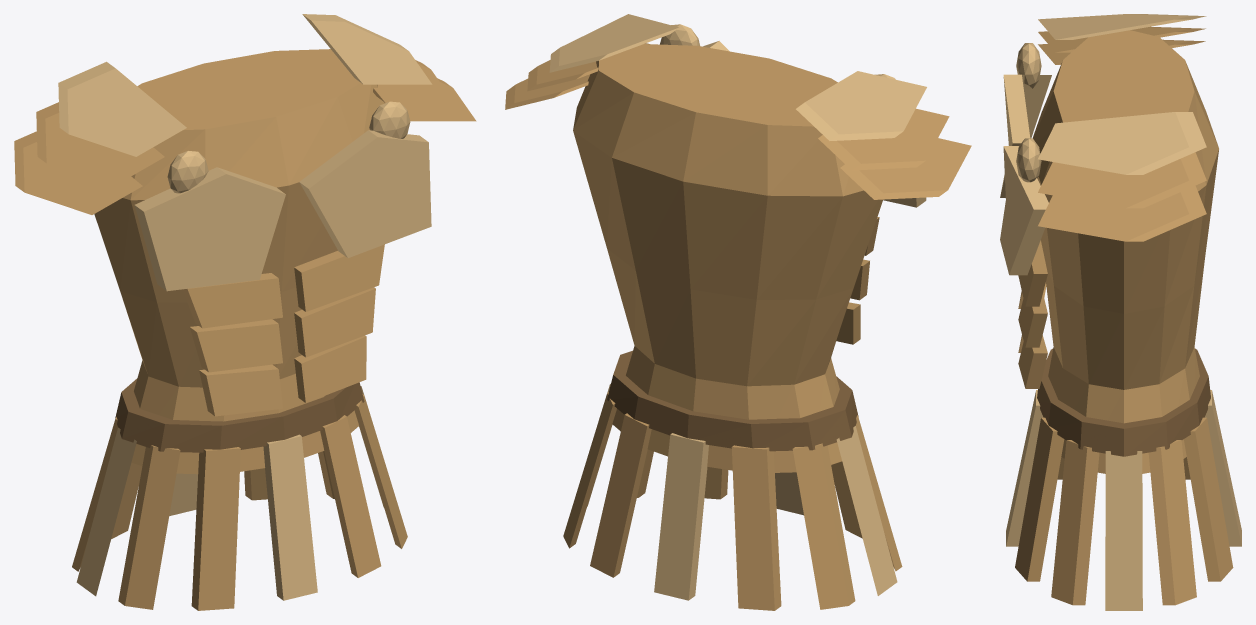
Rendered from cuirass.glb.
3 views of the same model, side by side, from view 1: azimuth 30°, elevation 25°; view 2: azimuth 150°, elevation 25°; view 3: azimuth 270°, elevation 25° (orthographic). The views are drawn at different scales.
Parts seen in each view (by area): view 1: Faceted cuirass, Pectoral plate, Pectoral plate.001, Waist belt, Layered shoulder, Overlapping skirt lappet.011, Overlapping skirt lappet, Overlapping skirt lappet.010, Overlapping skirt lappet.001, Layered shoulder.003, Layered shoulder.001, Layered shoulder.002 (+16 smaller); view 2: Faceted cuirass, Waist belt, Overlapping skirt lappet.007, Overlapping skirt lappet.006, Layered shoulder, Overlapping skirt lappet.008, Overlapping skirt lappet.005, Layered shoulder.002, Layered shoulder.001, Overlapping skirt lappet.009, Layered shoulder.003, Overlapping skirt lappet.004 (+7 smaller); view 3: Faceted cuirass, Layered shoulder.003, Waist belt, Overlapping skirt lappet.003, Overlapping skirt lappet.002, Overlapping skirt lappet.004, Layered shoulder.004, Layered shoulder.005, Overlapping skirt lappet.005, Overlapping skirt lappet.001, Pectoral plate.001, Layered shoulder (+10 smaller).
Boxes of the visible parts, x1,y1,x2,y2 form: Faceted cuirass: (94, 49, 385, 474); Pectoral plate: (134, 167, 285, 291); Pectoral plate.001: (299, 130, 431, 257); Waist belt: (115, 378, 364, 452); Layered shoulder: (58, 61, 186, 156); Overlapping skirt lappet.011: (191, 447, 240, 610); Overlapping skirt lappet: (263, 434, 317, 600); Overlapping skirt lappet.010: (118, 445, 180, 609); Overlapping skirt lappet.001: (320, 415, 381, 577); Layered shoulder.003: (302, 14, 432, 84); Layered shoulder.001: (36, 102, 164, 185); Layered shoulder.002: (14, 131, 142, 214); Faceted cuirass: (573, 44, 882, 472); Waist belt: (607, 350, 858, 451); Overlapping skirt lappet.007: (731, 445, 781, 610); Overlapping skirt lappet.006: (654, 433, 708, 600); Layered shoulder: (796, 71, 926, 140); Overlapping skirt lappet.008: (792, 443, 855, 609); Overlapping skirt lappet.005: (590, 413, 651, 577); Layered shoulder.002: (840, 138, 971, 199); Layered shoulder.001: (818, 108, 949, 170); Overlapping skirt lappet.009: (836, 426, 897, 595); Layered shoulder.003: (549, 14, 679, 72); Overlapping skirt lappet.004: (563, 392, 616, 548); Faceted cuirass: (1033, 30, 1218, 473); Layered shoulder.003: (1038, 112, 1206, 174); Waist belt: (1037, 348, 1210, 456); Overlapping skirt lappet.003: (1105, 451, 1142, 610); Overlapping skirt lappet.002: (1051, 440, 1099, 605); Overlapping skirt lappet.004: (1148, 440, 1196, 605); Layered shoulder.004: (1038, 152, 1206, 208); Layered shoulder.005: (1038, 185, 1206, 241); Overlapping skirt lappet.005: (1183, 417, 1233, 581); Overlapping skirt lappet.001: (1015, 417, 1064, 581); Pectoral plate.001: (1000, 146, 1048, 275); Layered shoulder: (1038, 14, 1206, 39).
Bounding box in the file's own units: 0.68 × 0.74 × 0.3433.
